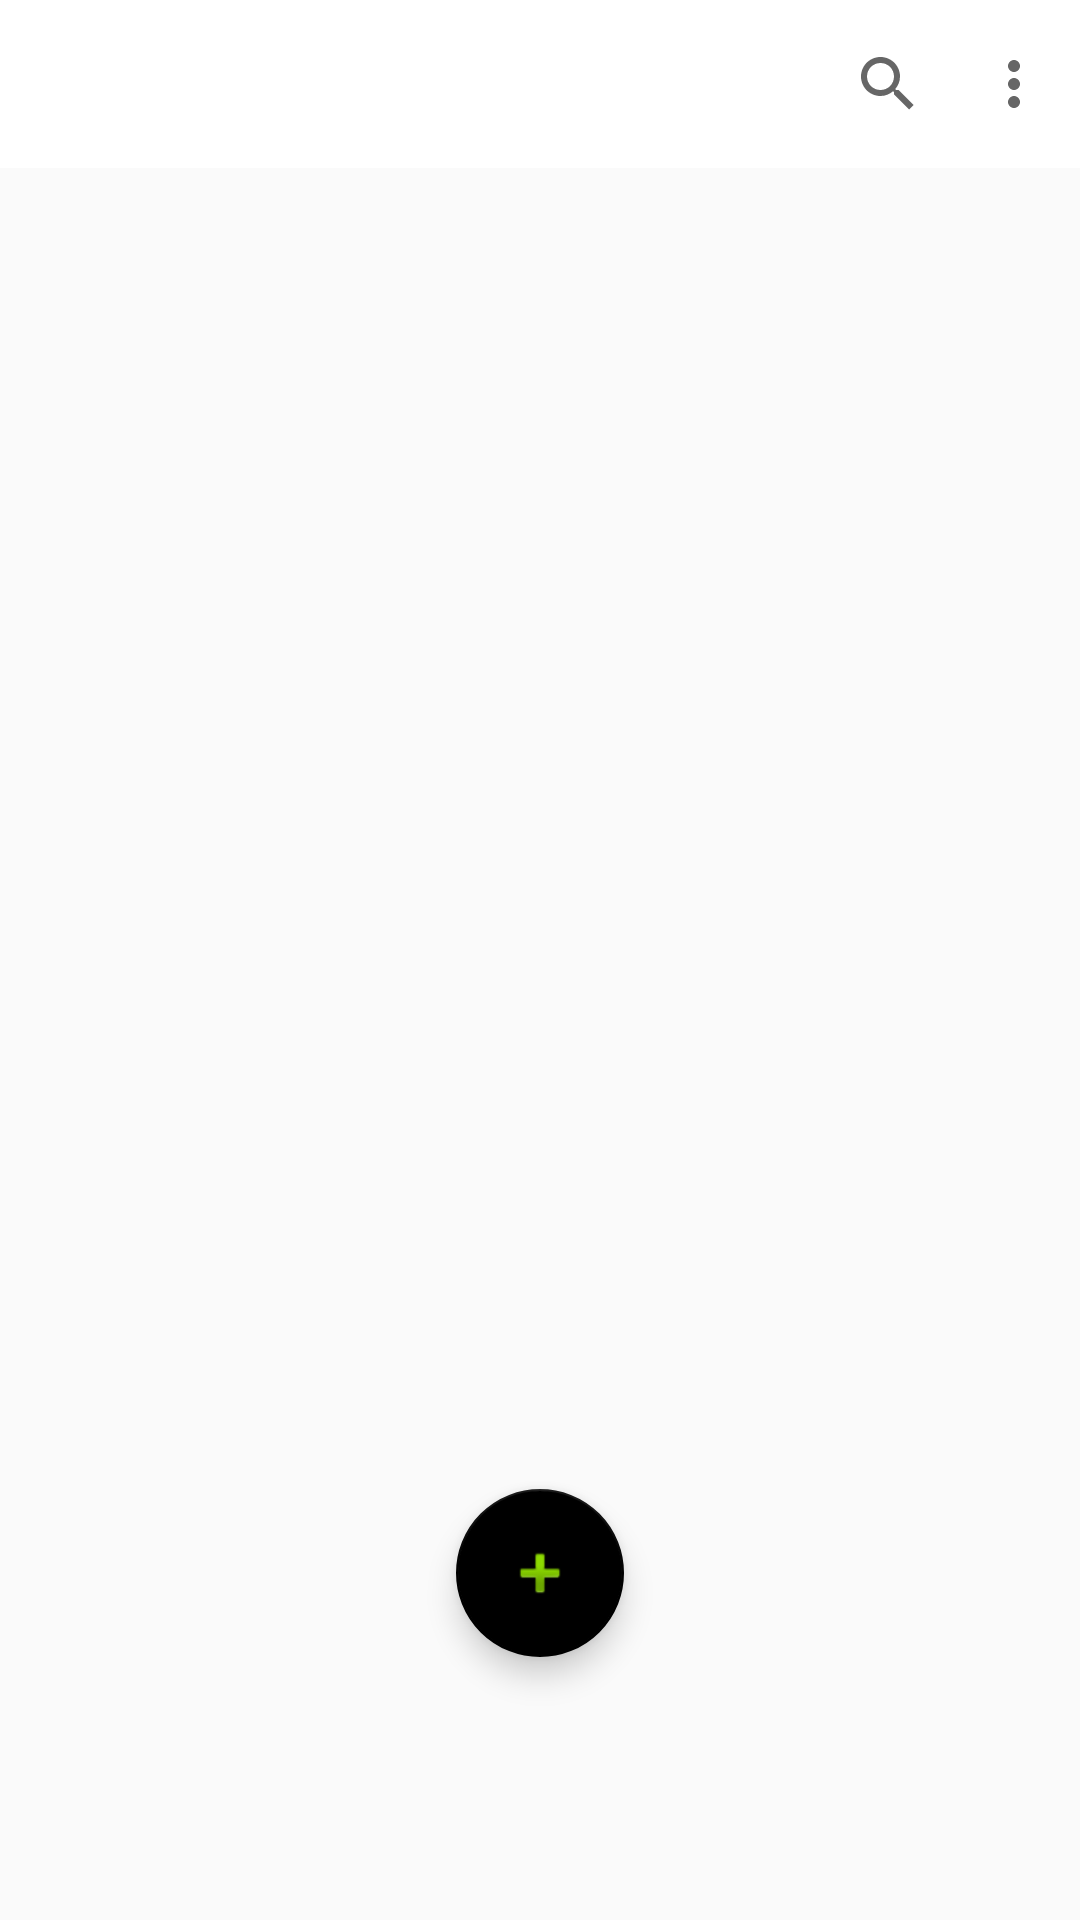

Named icons in this screenshot (1080x1920) and their centers, (x,y):
add: (540,1573)
